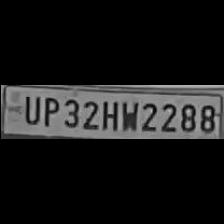2: (156, 100, 176, 132), (79, 97, 98, 130), (138, 100, 156, 132)
3: (60, 96, 78, 128)
8: (177, 100, 197, 132), (197, 102, 215, 132)
H: (98, 97, 118, 130)
P: (40, 93, 58, 126)
U: (20, 94, 38, 124)
W: (118, 98, 138, 132)
